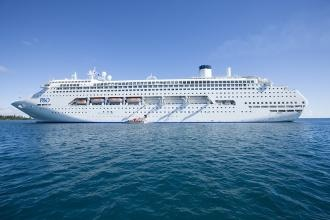youlun: (10, 69, 318, 123)
